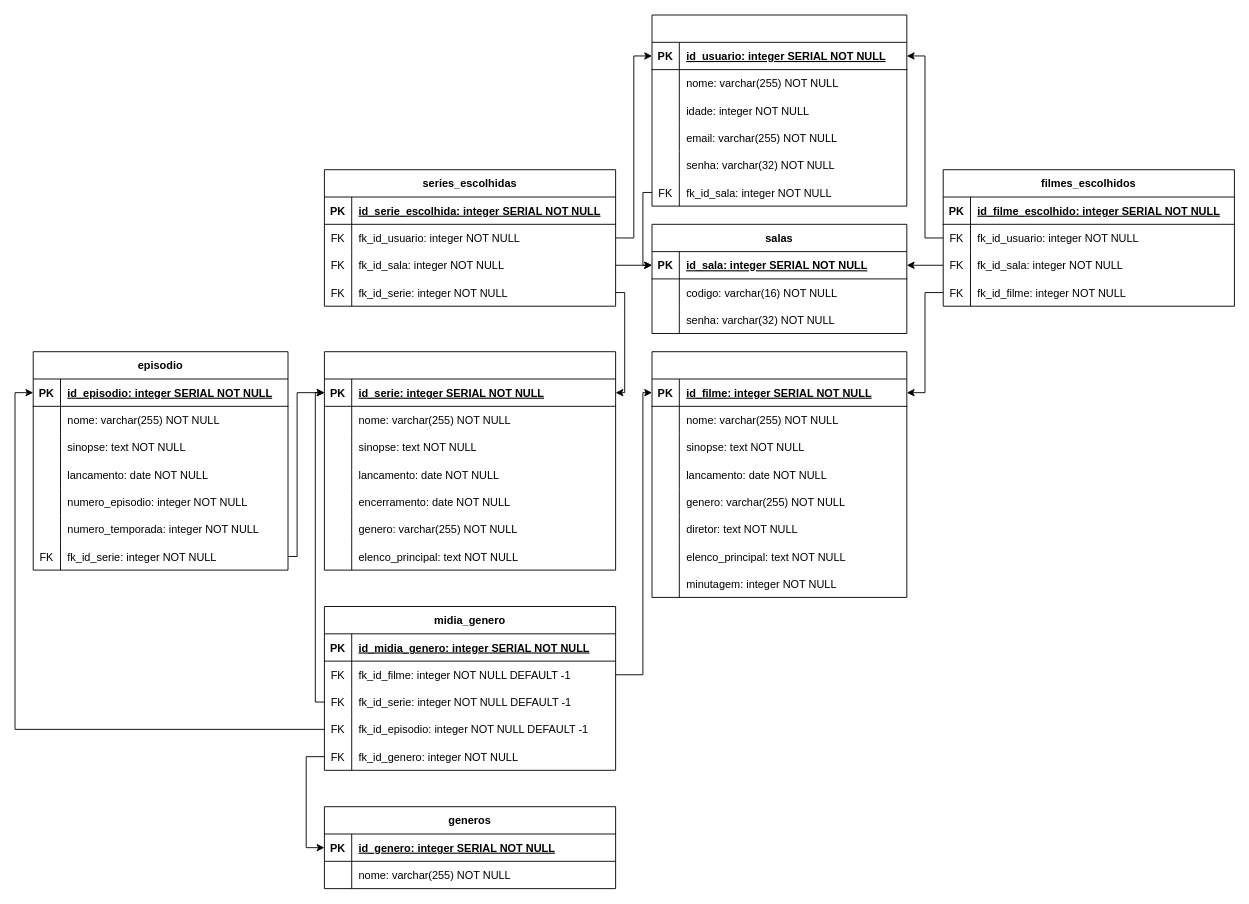
Some shapes in this 1249 by 904 pixel diagram are drawn without their labels. The box of each missing label's shape, as (x1, y1, x2, y2) in pixels:
filmes: (651, 351, 907, 597)
series: (324, 351, 616, 570)
usuarios: (651, 14, 907, 206)
